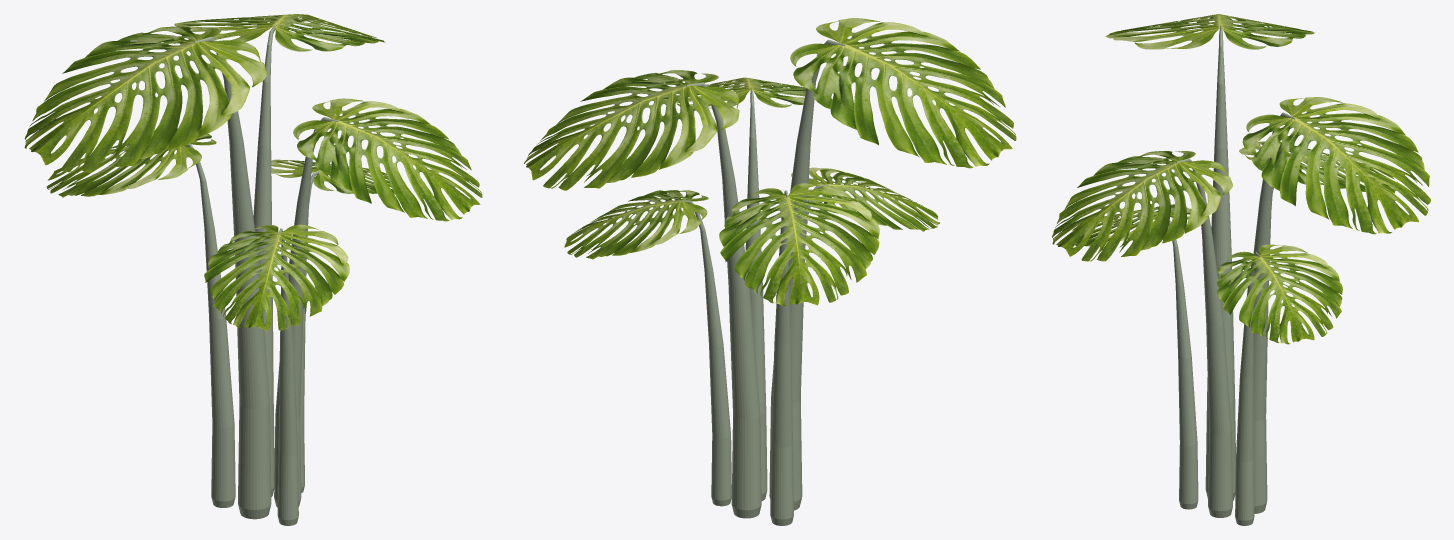
File: Plant_Monstera.fbx
3 renders of one model, left to right at view 1: azimuth 30°, elevation 25°; view 2: azimuth 150°, elevation 25°; view 3: azimuth 270°, elevation 25°, orthographic. The views are drawn at different scales.
Parts seen in each view (by area): view 1: TexturesCom_LeavesTropical0202_1_masked_S.001, TexturesCom_LeavesTropical0202_1_masked_S.002, TexturesCom_LeavesTropical0202_1_masked_S.004, TexturesCom_LeavesTropical0202_1_masked_S.006, TexturesCom_LeavesTropical0202_1_masked_S.003, TexturesCom_LeavesTropical0202_1_masked_S.005; view 2: TexturesCom_LeavesTropical0202_1_masked_S.001, TexturesCom_LeavesTropical0202_1_masked_S.003, TexturesCom_LeavesTropical0202_1_masked_S.006, TexturesCom_LeavesTropical0202_1_masked_S.005, TexturesCom_LeavesTropical0202_1_masked_S.002, TexturesCom_LeavesTropical0202_1_masked_S.004; view 3: TexturesCom_LeavesTropical0202_1_masked_S.003, TexturesCom_LeavesTropical0202_1_masked_S.002, TexturesCom_LeavesTropical0202_1_masked_S.005, TexturesCom_LeavesTropical0202_1_masked_S.001, TexturesCom_LeavesTropical0202_1_masked_S.004, TexturesCom_LeavesTropical0202_1_masked_S.006.
Part boxes in pixels (box(x1,y1,x2,y2)): TexturesCom_LeavesTropical0202_1_masked_S.001: box(24, 26, 271, 519); TexturesCom_LeavesTropical0202_1_masked_S.002: box(274, 98, 482, 507); TexturesCom_LeavesTropical0202_1_masked_S.004: box(204, 224, 349, 525); TexturesCom_LeavesTropical0202_1_masked_S.006: box(46, 128, 235, 507); TexturesCom_LeavesTropical0202_1_masked_S.003: box(174, 14, 385, 496); TexturesCom_LeavesTropical0202_1_masked_S.005: box(271, 159, 394, 492); TexturesCom_LeavesTropical0202_1_masked_S.001: box(769, 18, 1016, 510); TexturesCom_LeavesTropical0202_1_masked_S.003: box(524, 70, 761, 518); TexturesCom_LeavesTropical0202_1_masked_S.006: box(719, 183, 879, 525); TexturesCom_LeavesTropical0202_1_masked_S.005: box(564, 190, 731, 506); TexturesCom_LeavesTropical0202_1_masked_S.002: box(663, 77, 806, 500); TexturesCom_LeavesTropical0202_1_masked_S.004: box(791, 167, 939, 234); TexturesCom_LeavesTropical0202_1_masked_S.003: box(1242, 97, 1430, 513); TexturesCom_LeavesTropical0202_1_masked_S.002: box(1052, 151, 1232, 517); TexturesCom_LeavesTropical0202_1_masked_S.005: box(1216, 244, 1342, 525); TexturesCom_LeavesTropical0202_1_masked_S.001: box(1105, 14, 1314, 500); TexturesCom_LeavesTropical0202_1_masked_S.004: box(1072, 204, 1198, 509); TexturesCom_LeavesTropical0202_1_masked_S.006: box(1239, 141, 1397, 209).
Bounding box in the file's own units: 94.84 × 104 × 83.12.
Materials: 2 (1 with a texture image).
